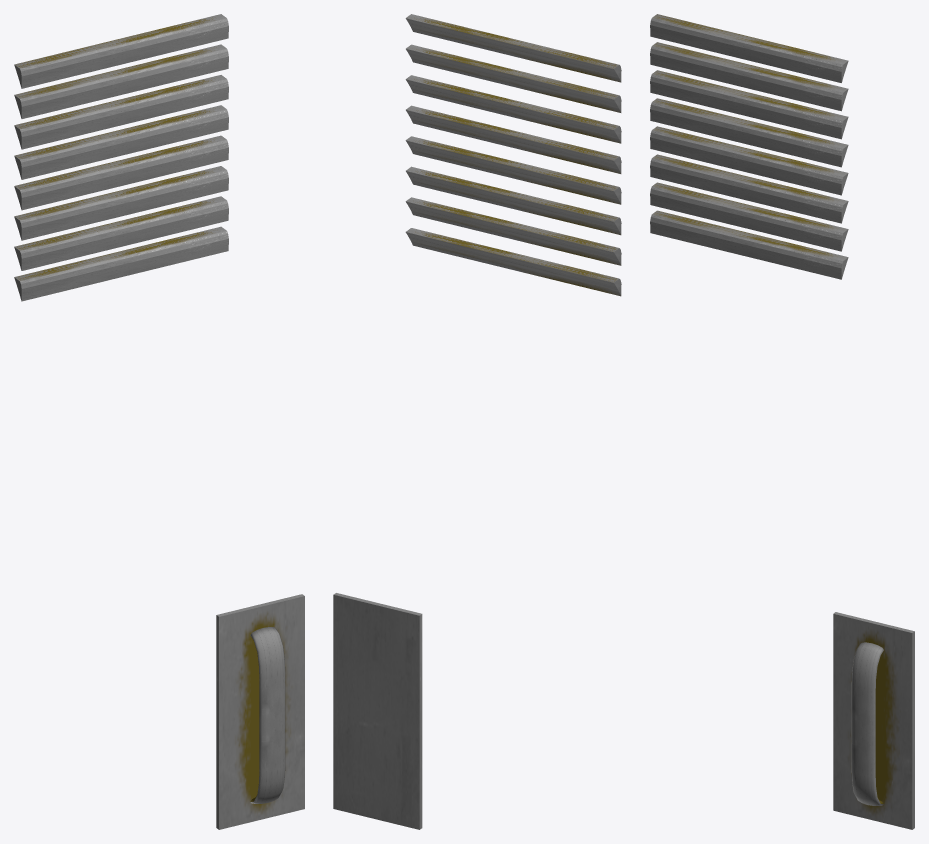
Rendered from armario_macaneta_TEXTURIZADA.fbx.
3 views of the same model, side by side, from view 1: azimuth 30°, elevation 25°; view 2: azimuth 150°, elevation 25°; view 3: azimuth 330°, elevation 25° (orthographic). The views are drawn at different scales.
Parts seen in each view (by area): view 1: macaneta_smooth; view 2: macaneta_smooth; view 3: macaneta_smooth.
Part boxes in pixels (left/top/right/bottom): macaneta_smooth: left=14, top=14, right=304, bottom=829; macaneta_smooth: left=333, top=14, right=621, bottom=829; macaneta_smooth: left=650, top=14, right=914, bottom=829.
Size of the model in its own units: 33.56 by 91.46 by 4.04.
1 material, 1 textured.
